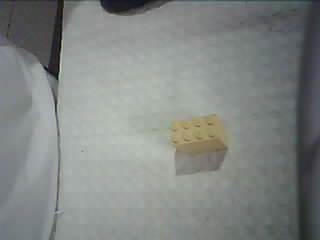lego: (166, 113, 228, 155)
